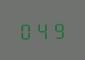four: (35, 20, 50, 39)
nine: (51, 19, 66, 39)
zero: (18, 20, 33, 40)
